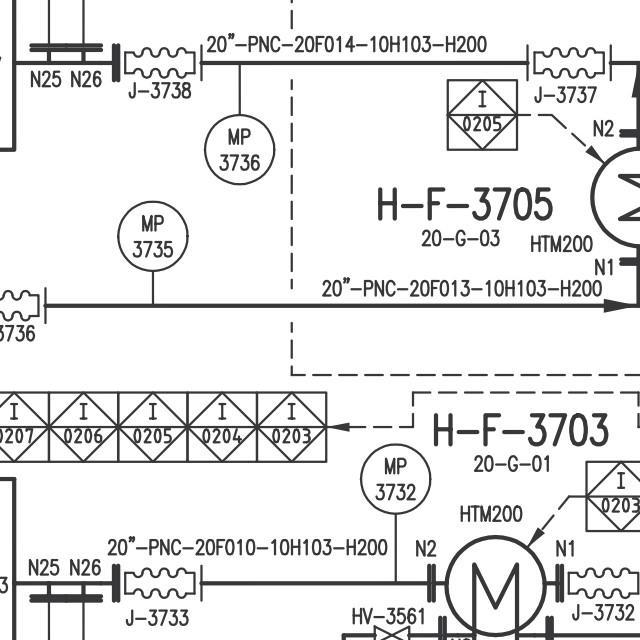EJ: (117, 36, 208, 87), (116, 557, 208, 607), (520, 43, 618, 82), (560, 559, 640, 604)
GV: (367, 621, 417, 640)
HE: (445, 530, 544, 637)
